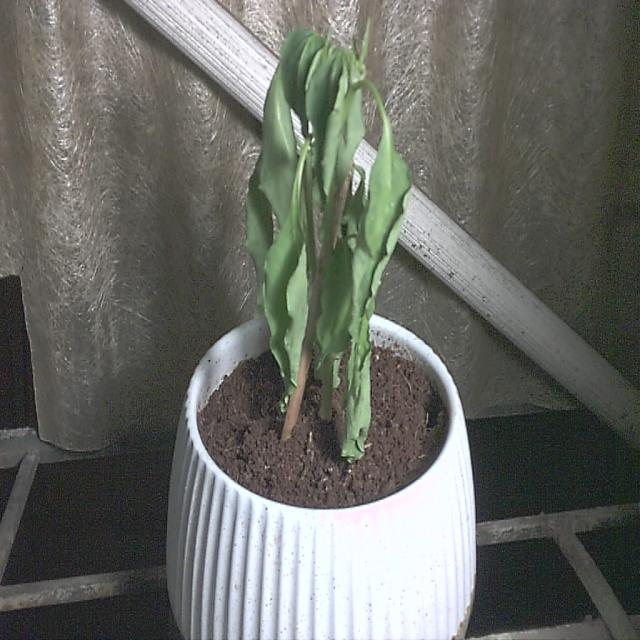Leaf: (349, 134, 410, 372), (262, 208, 308, 421)
